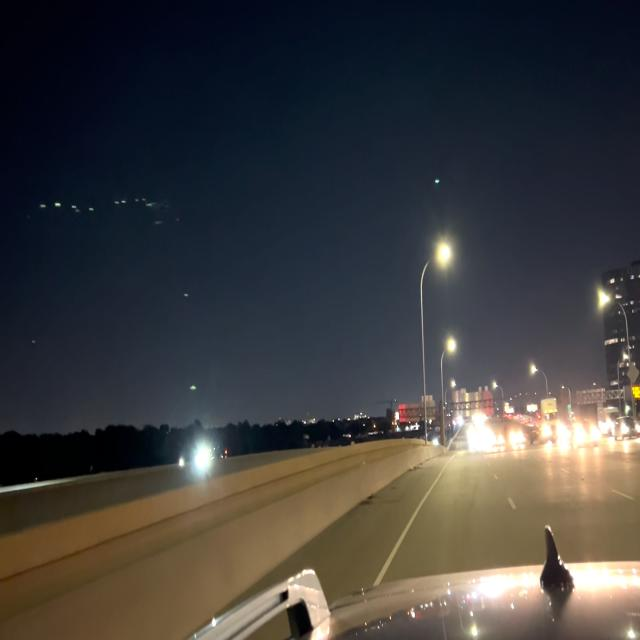back-of-sign: (451, 386, 494, 416), (399, 395, 437, 425), (574, 385, 606, 407)
